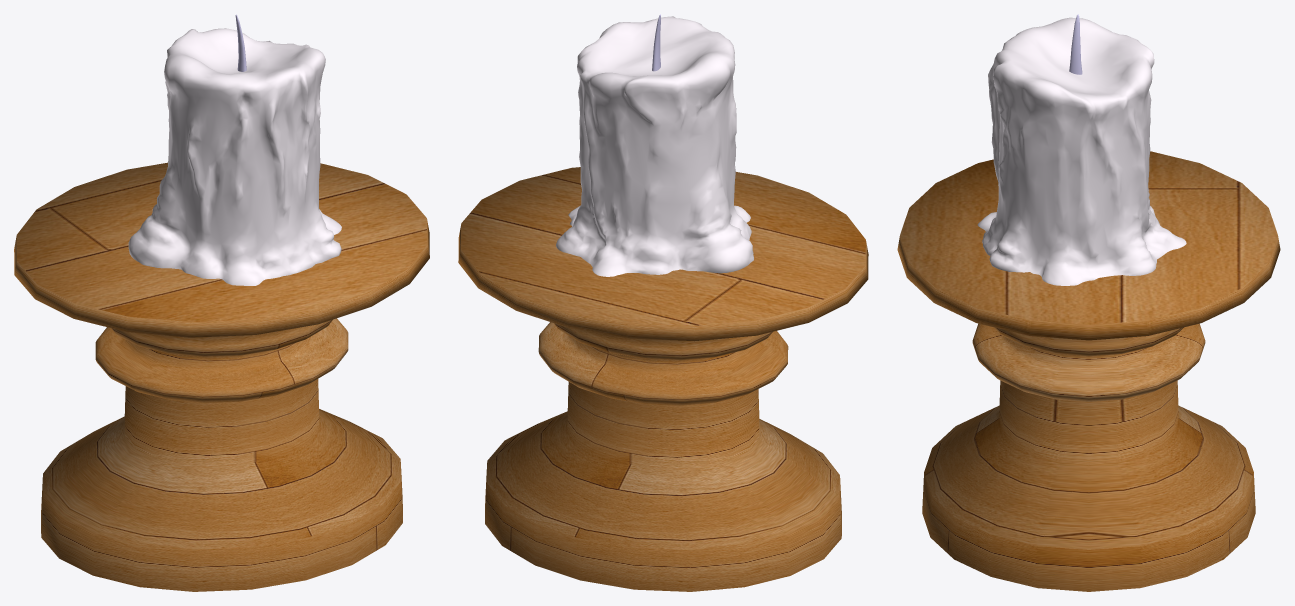
File: CandleWithHolderNew.obj
The picture shows the model from 3 angles, left to right: view 1: azimuth 30°, elevation 25°; view 2: azimuth 150°, elevation 25°; view 3: azimuth 270°, elevation 25°; orthographic projection.
Parts seen in each view (by area): view 1: Line01, Group30359; view 2: Line01, Group30359; view 3: Line01, Group30359, Cylinder001.
Boxes of the visible parts, left/top/right/bottom form: Line01: left=14, top=162, right=429, bottom=591; Group30359: left=128, top=28, right=341, bottom=285; Line01: left=458, top=167, right=868, bottom=591; Group30359: left=556, top=16, right=753, bottom=276; Line01: left=897, top=151, right=1280, bottom=591; Group30359: left=977, top=17, right=1186, bottom=285; Cylinder001: left=1069, top=14, right=1082, bottom=74.
Bounding box in the file's own units: 167 × 216 × 149.
